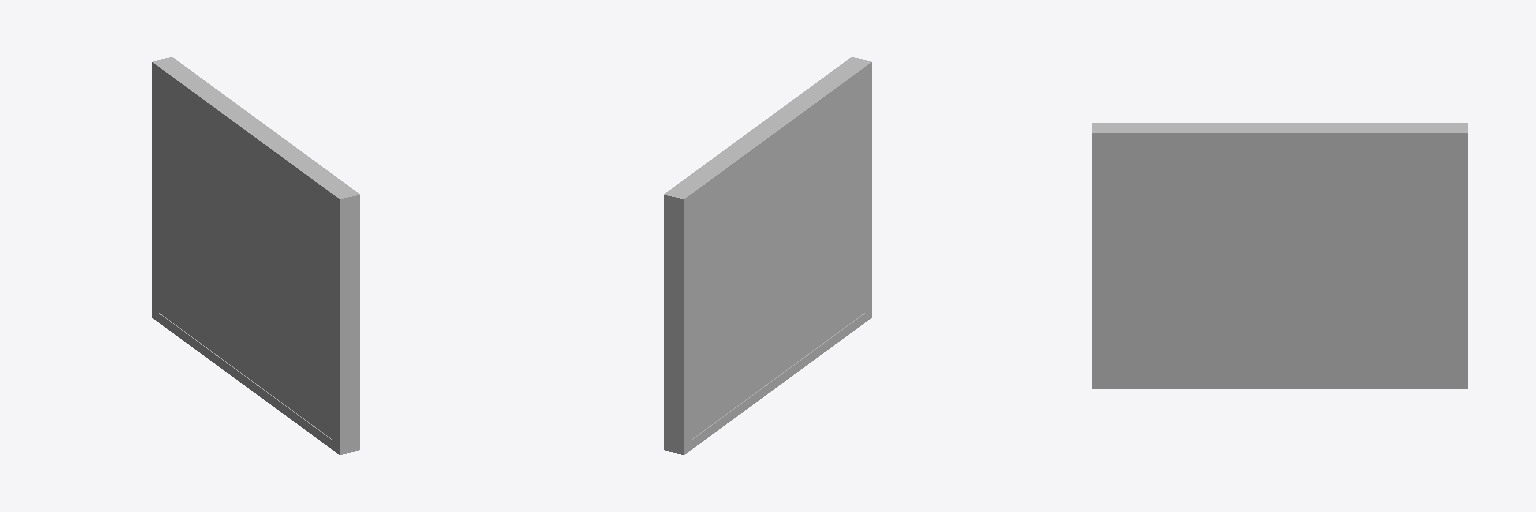
The model's file is display16x12.obj.
3 renders of one model, left to right at view 1: azimuth 30°, elevation 25°; view 2: azimuth 150°, elevation 25°; view 3: azimuth 270°, elevation 25°, orthographic.
Parts seen in each view (by area): view 1: Cube_Cube.006; view 2: Cube_Cube.006; view 3: Cube_Cube.006.
Boxes of the visible parts, <box> form: Cube_Cube.006: <box>152,57,359,454</box>; Cube_Cube.006: <box>664,57,871,454</box>; Cube_Cube.006: <box>1092,123,1467,388</box>.
Bounding box in the file's own units: 1 × 12 × 16.